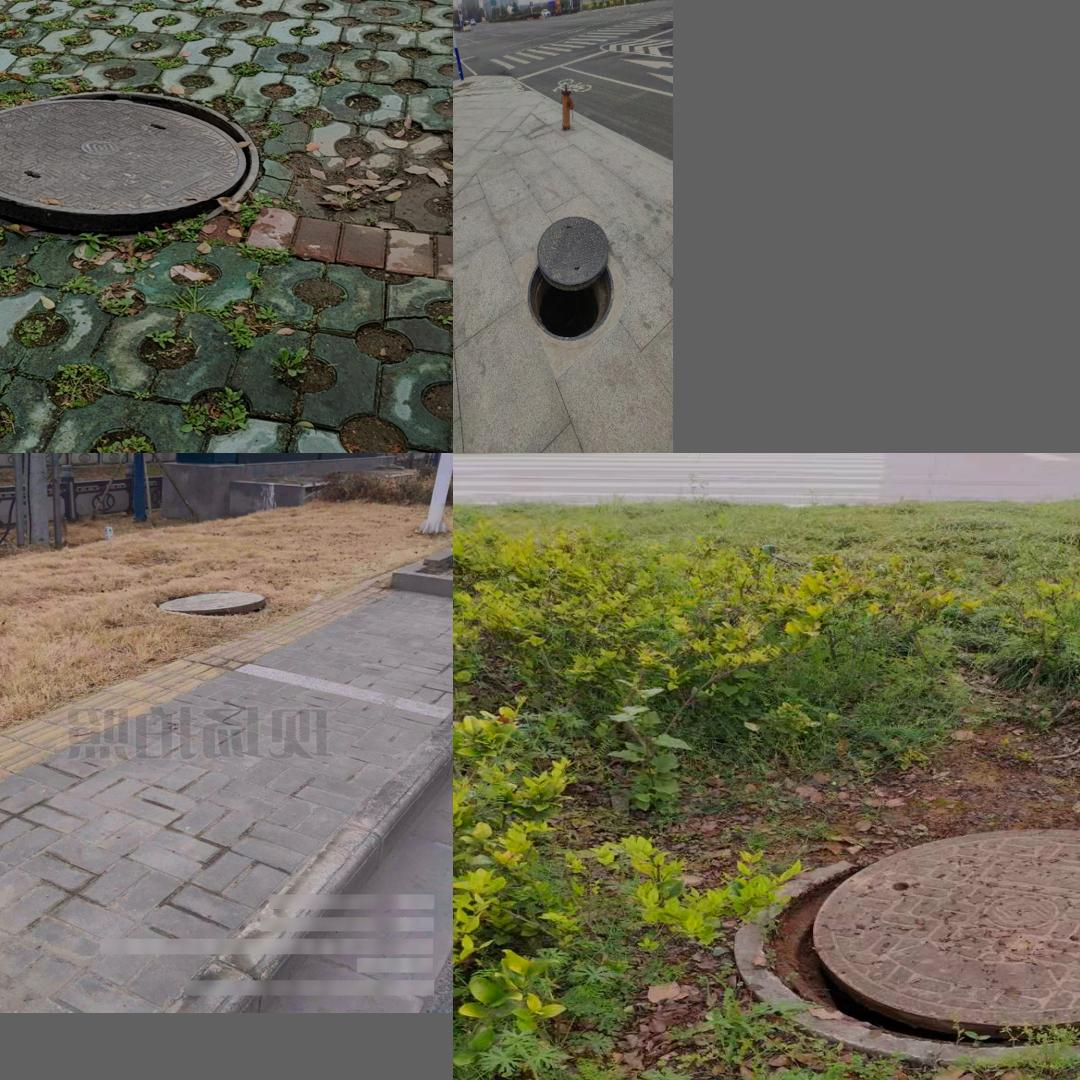uncovered: (732, 829, 1080, 1064), (0, 95, 258, 241), (527, 215, 613, 340), (159, 588, 267, 617)
